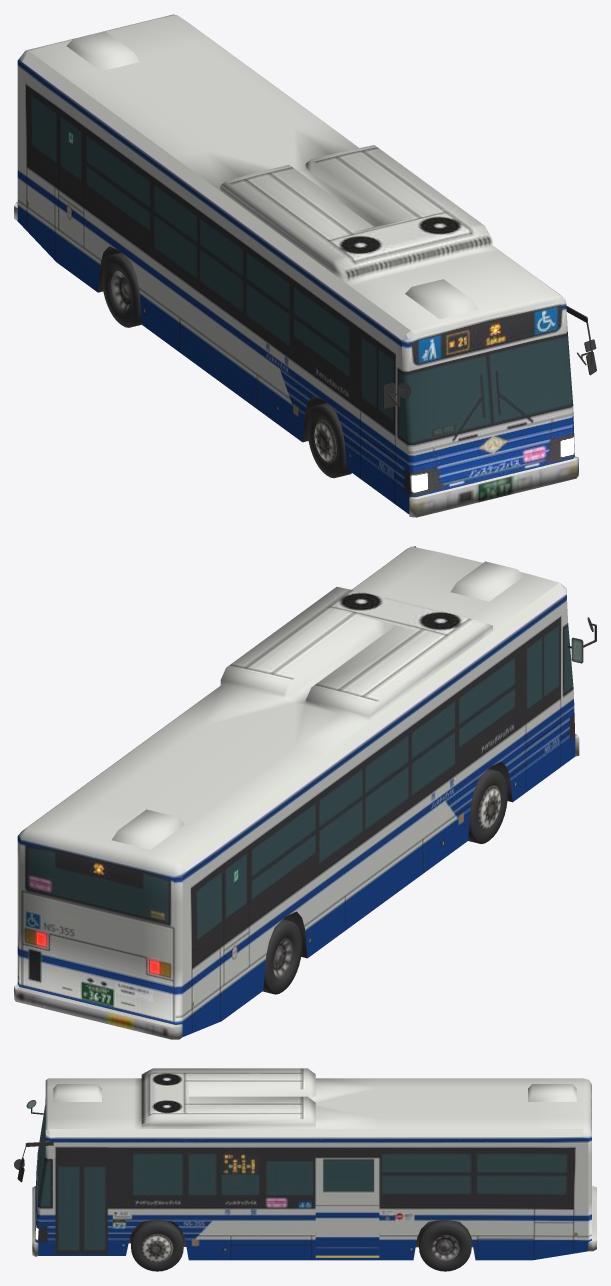
Rendered from bus_ville-D6B6R-zO.glb.
The picture shows the model from 3 angles, top to bottom: view 1: azimuth 30°, elevation 25°; view 2: azimuth 150°, elevation 25°; view 3: azimuth 270°, elevation 25°; orthographic projection. The views are drawn at different scales.
Parts seen in each view (by area): view 1: Cube.004_Nagoya_0; view 2: Cube.004_Nagoya_0; view 3: Cube.004_Nagoya_0.
Boxes of the visible parts, x1,y1,x2,y2 form: Cube.004_Nagoya_0: [14, 14, 596, 517]; Cube.004_Nagoya_0: [14, 546, 596, 1039]; Cube.004_Nagoya_0: [14, 1068, 596, 1271].
Size of the model in its own units: 2.94 by 3.15 by 11.
1 material, 1 textured.
